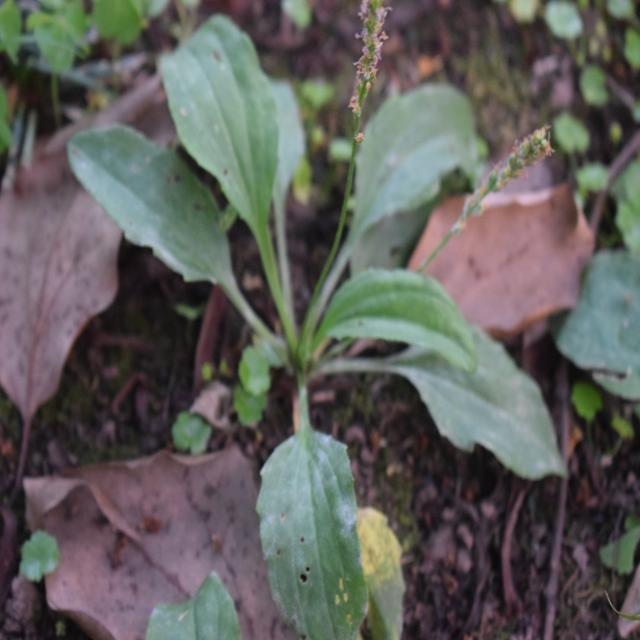plantain: (106, 26, 552, 573)
